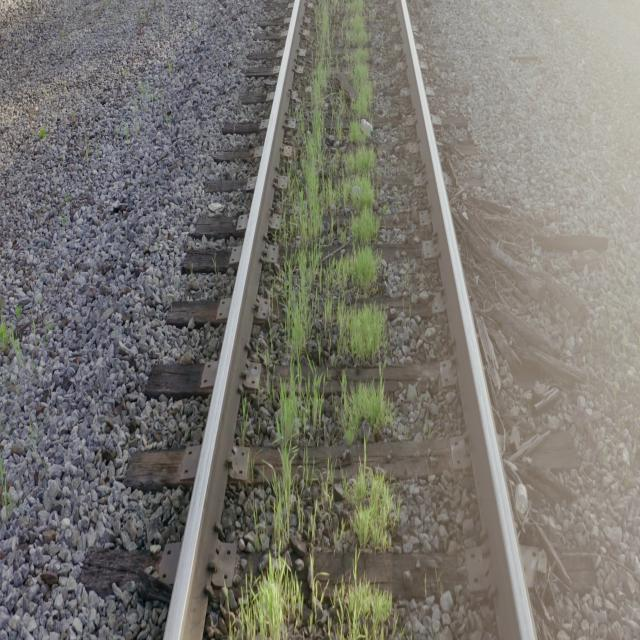Plant: (231, 0, 386, 640), (334, 551, 392, 640), (350, 462, 396, 551), (331, 571, 392, 638), (340, 378, 391, 444)
